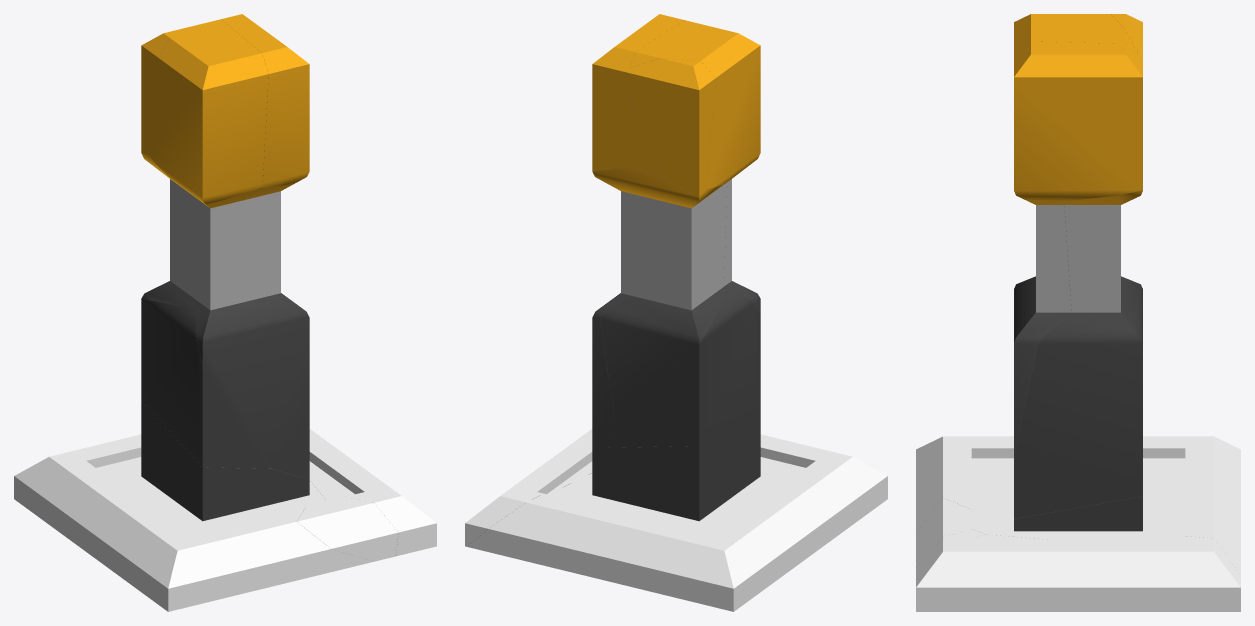
The model's file is Pillar_Fractured.fbx.
3 renders of one model, left to right at view 1: azimuth 30°, elevation 25°; view 2: azimuth 150°, elevation 25°; view 3: azimuth 270°, elevation 25°, orthographic. The views are drawn at different scales.
Parts seen in each view (by area): view 1: cot_cell.002, cot_cell.007, cot_cell.001, cot_cell.006, cot_cell, cot_cell.005, cot_cell.003, cot_cell.009, cot_cell.004; view 2: cot_cell.002, cot_cell.003, cot_cell.006, cot_cell.001, cot_cell.004, cot_cell, cot_cell.005, cot_cell.008, cot_cell.007; view 3: cot_cell.005, cot_cell.002, cot_cell.008, cot_cell, cot_cell.003, cot_cell.007, cot_cell.001, cot_cell.009, cot_cell.004.
Boxes of the visible parts, x1,y1,x2,y2 form: cot_cell.002: (14, 401, 374, 611); cot_cell.007: (195, 185, 309, 477); cot_cell.001: (148, 19, 268, 205); cot_cell.006: (141, 300, 271, 468); cot_cell: (221, 14, 309, 187); cot_cell.005: (309, 429, 436, 556); cot_cell.003: (141, 152, 205, 309); cot_cell.009: (297, 497, 398, 561); cot_cell.004: (141, 25, 195, 154); cot_cell.002: (467, 422, 887, 611); cot_cell.003: (592, 167, 733, 413); cot_cell.006: (608, 291, 760, 447); cot_cell.001: (628, 20, 760, 189); cot_cell.004: (625, 58, 715, 196); cot_cell: (592, 14, 684, 171); cot_cell.005: (465, 429, 592, 546); cot_cell.008: (592, 294, 618, 461); cot_cell.007: (724, 173, 760, 319); cot_cell.005: (916, 529, 1240, 611); cot_cell.002: (916, 436, 1240, 575); cot_cell.008: (1014, 315, 1142, 518); cot_cell: (1014, 41, 1142, 200); cot_cell.003: (1064, 190, 1142, 339); cot_cell.007: (1014, 200, 1072, 454); cot_cell.001: (1014, 14, 1138, 55); cot_cell.009: (916, 498, 985, 567); cot_cell.004: (1111, 14, 1142, 59).
Size of the model in its own units: 816 by 1400 by 810.
